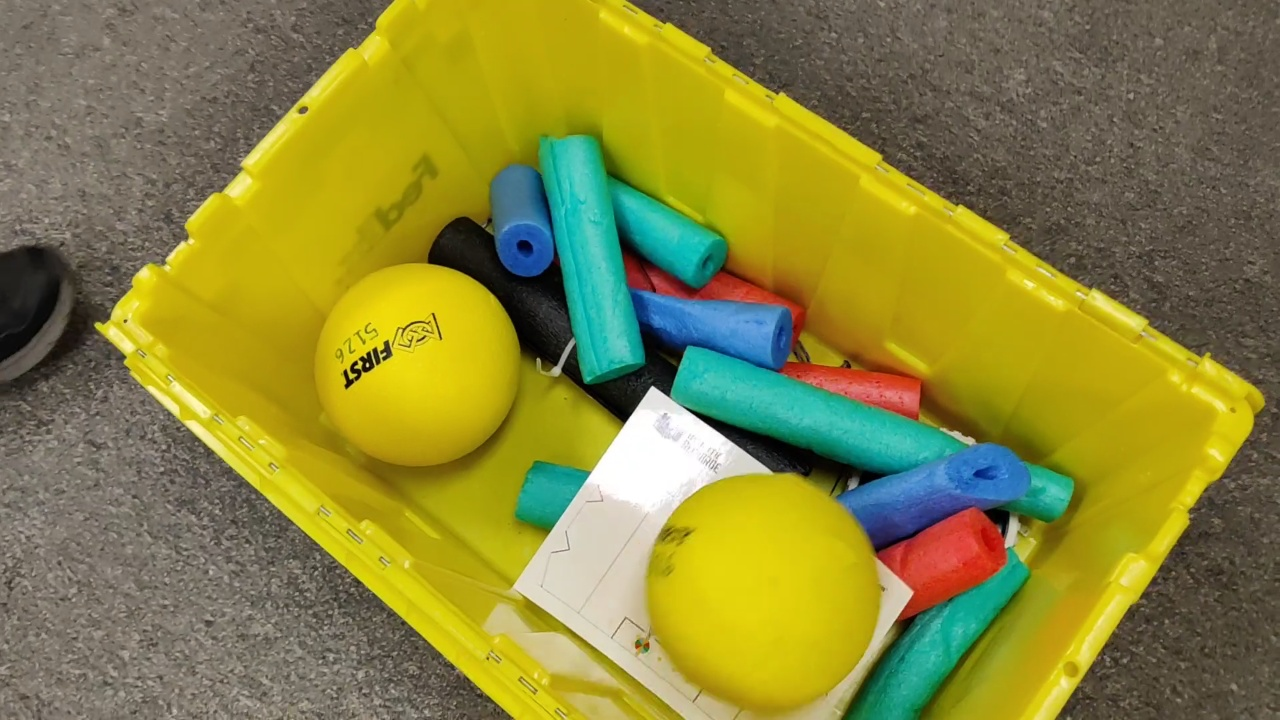Ball: (654, 473, 865, 708), (319, 262, 527, 467)
